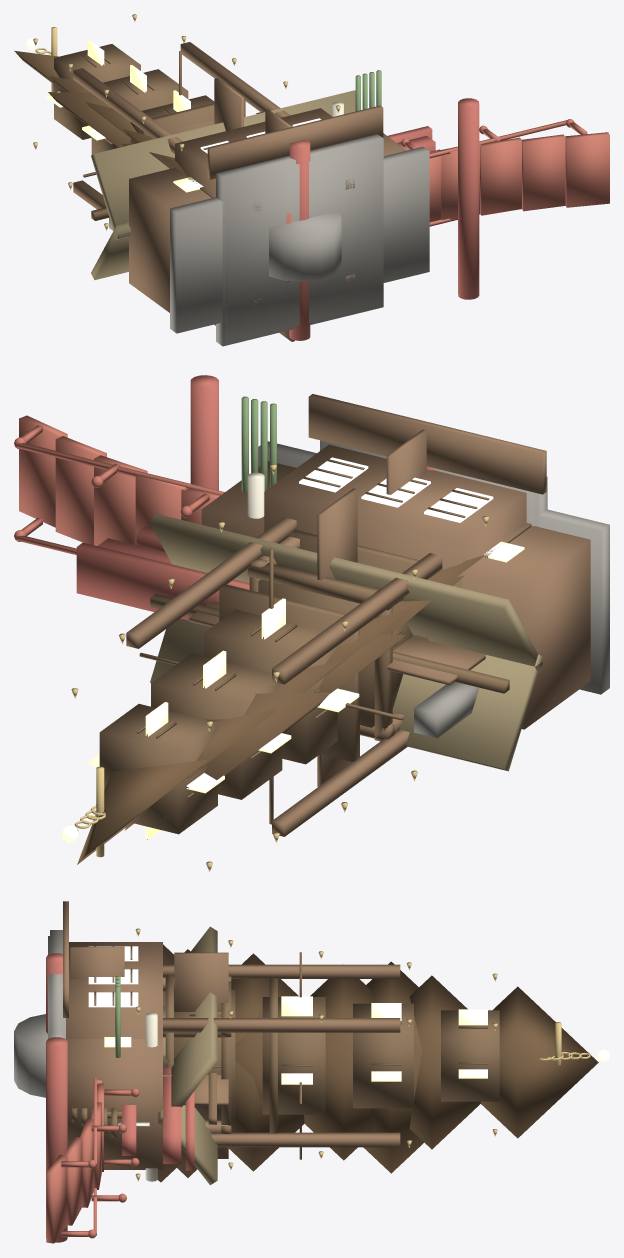
The model's file is village_kit.glb.
3 renders of one model, top to bottom at view 1: azimuth 30°, elevation 25°; view 2: azimuth 150°, elevation 25°; view 3: azimuth 270°, elevation 25°, orthographic. The views are drawn at different scales.
Visible parts, largest first — view 1: Pagoda, Longhouse, Bridge, Teahouse, Watchtower, Torii, Well, BellTower; view 2: Longhouse, Pagoda, Teahouse, Watchtower, Bridge, Torii, BellTower; view 3: Pagoda, Watchtower, Longhouse, Teahouse, Torii, Bridge, BellTower, Well.
Boxes of the visible parts, x1,y1,x2,y2 form: Pagoda: (14,14,380,342); Longhouse: (91,90,429,333); Bridge: (286,119,609,281); Teahouse: (149,70,383,346); Watchtower: (48,42,294,341); Torii: (289,98,479,340); Well: (269,210,341,281); BellTower: (122,111,365,319); Longhouse: (150,441,609,771); Pagoda: (62,441,533,872); Teahouse: (241,394,547,634); Watchtower: (126,429,485,839); Bridge: (14,415,224,554); Torii: (76,375,434,620); BellTower: (247,536,404,741); Pagoda: (48,928,609,1182); Watchtower: (70,946,423,1173); Longhouse: (50,926,217,1185); Teahouse: (50,901,220,1177); Torii: (46,953,194,1242); Bridge: (46,1078,139,1243); BellTower: (163,976,262,1133); Well: (14,1014,47,1097).
Size of the model in its own units: 11.4 by 5.65 by 13.19.
